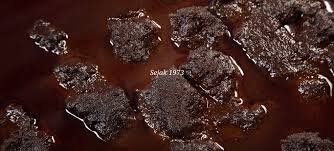rendang: (6, 5, 328, 140)
